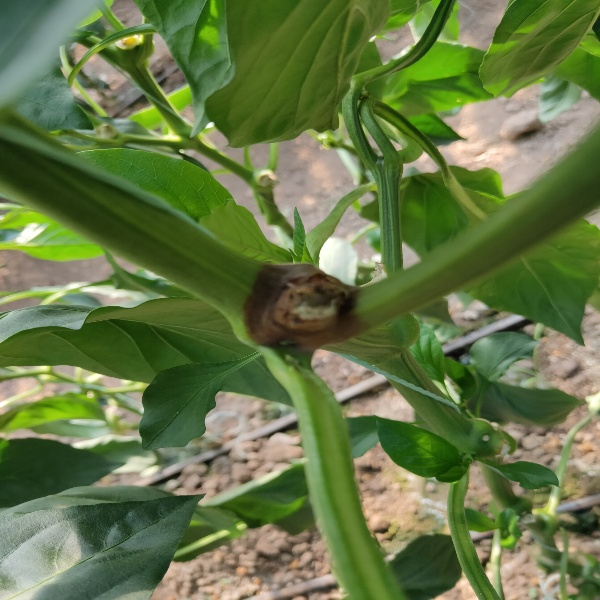blight: (241, 260, 365, 355)
